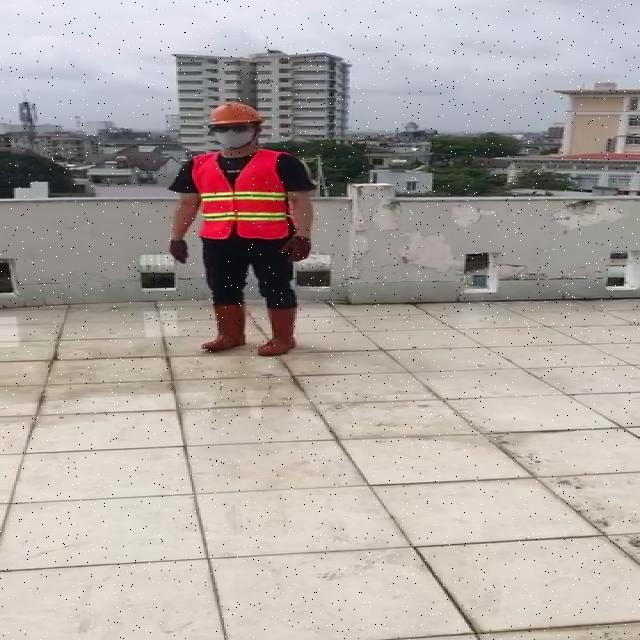Hard_hat: (205, 99, 268, 135)
Vest: (191, 150, 290, 241)
